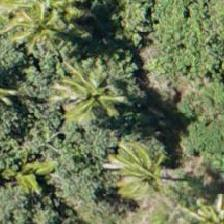coconut_tree: (98, 129, 188, 219), (52, 54, 142, 144), (6, 0, 96, 46), (171, 174, 223, 223)
